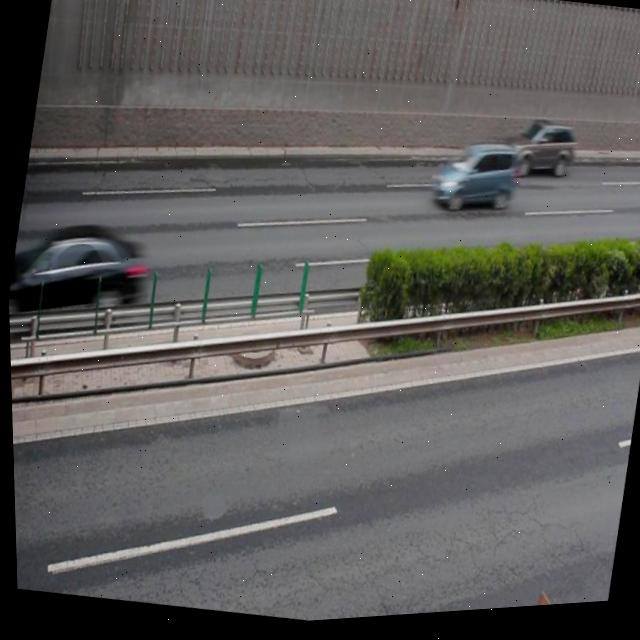car: (11, 208, 152, 333), (424, 138, 518, 224), (496, 116, 578, 190)
